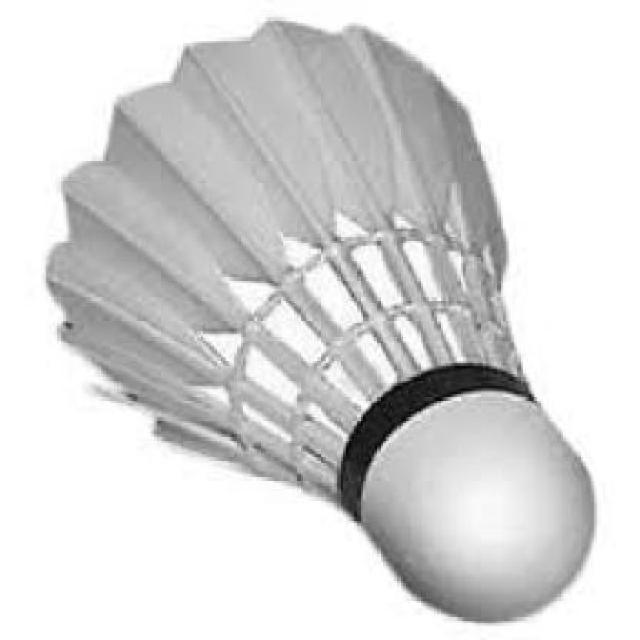Shuttlecock: (43, 17, 600, 628)
